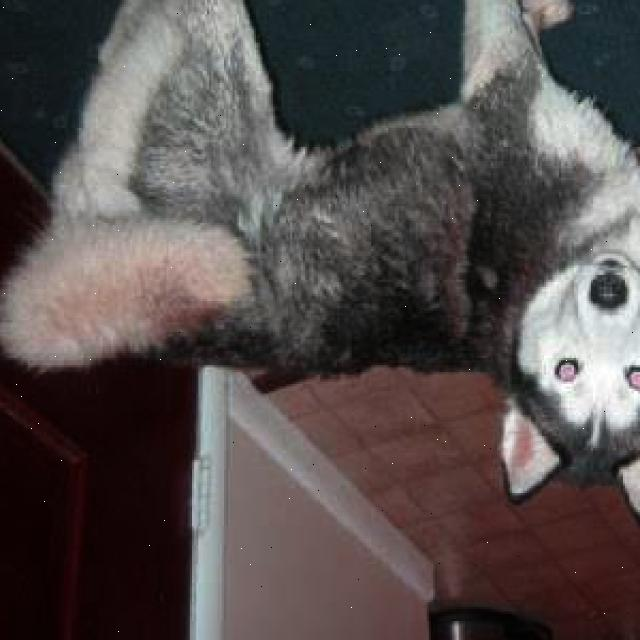Dog: (484, 237, 640, 540)
